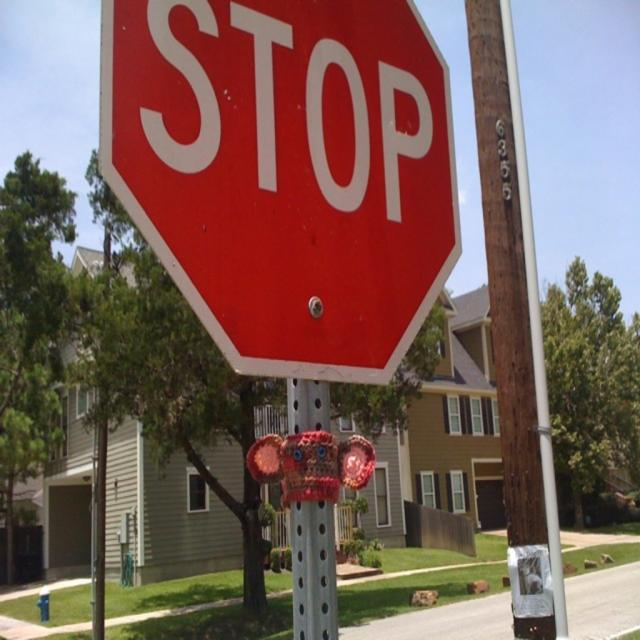Stop-sign: (103, 0, 460, 376)
